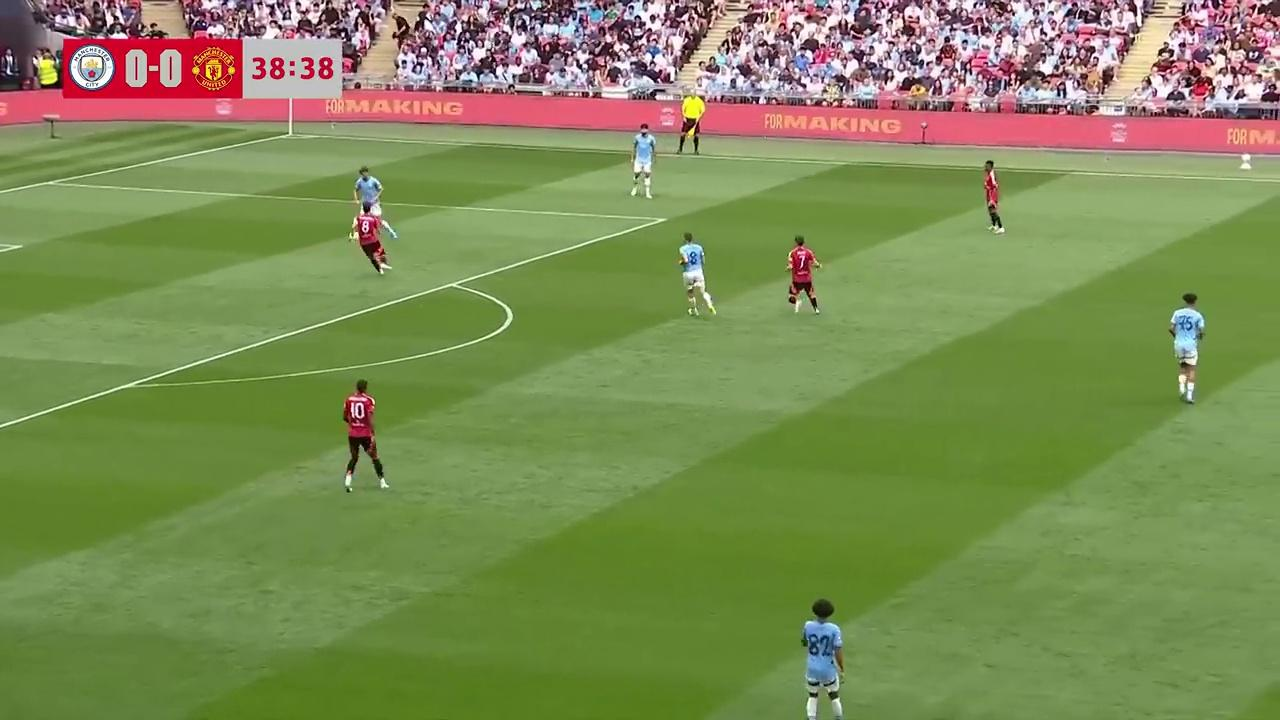player: (799, 597, 845, 720), (342, 379, 391, 494), (1169, 293, 1205, 403), (678, 232, 716, 318), (349, 207, 392, 276), (786, 235, 822, 316), (630, 126, 656, 198), (353, 166, 383, 225), (983, 160, 1004, 235)
referee: (677, 94, 703, 156)
